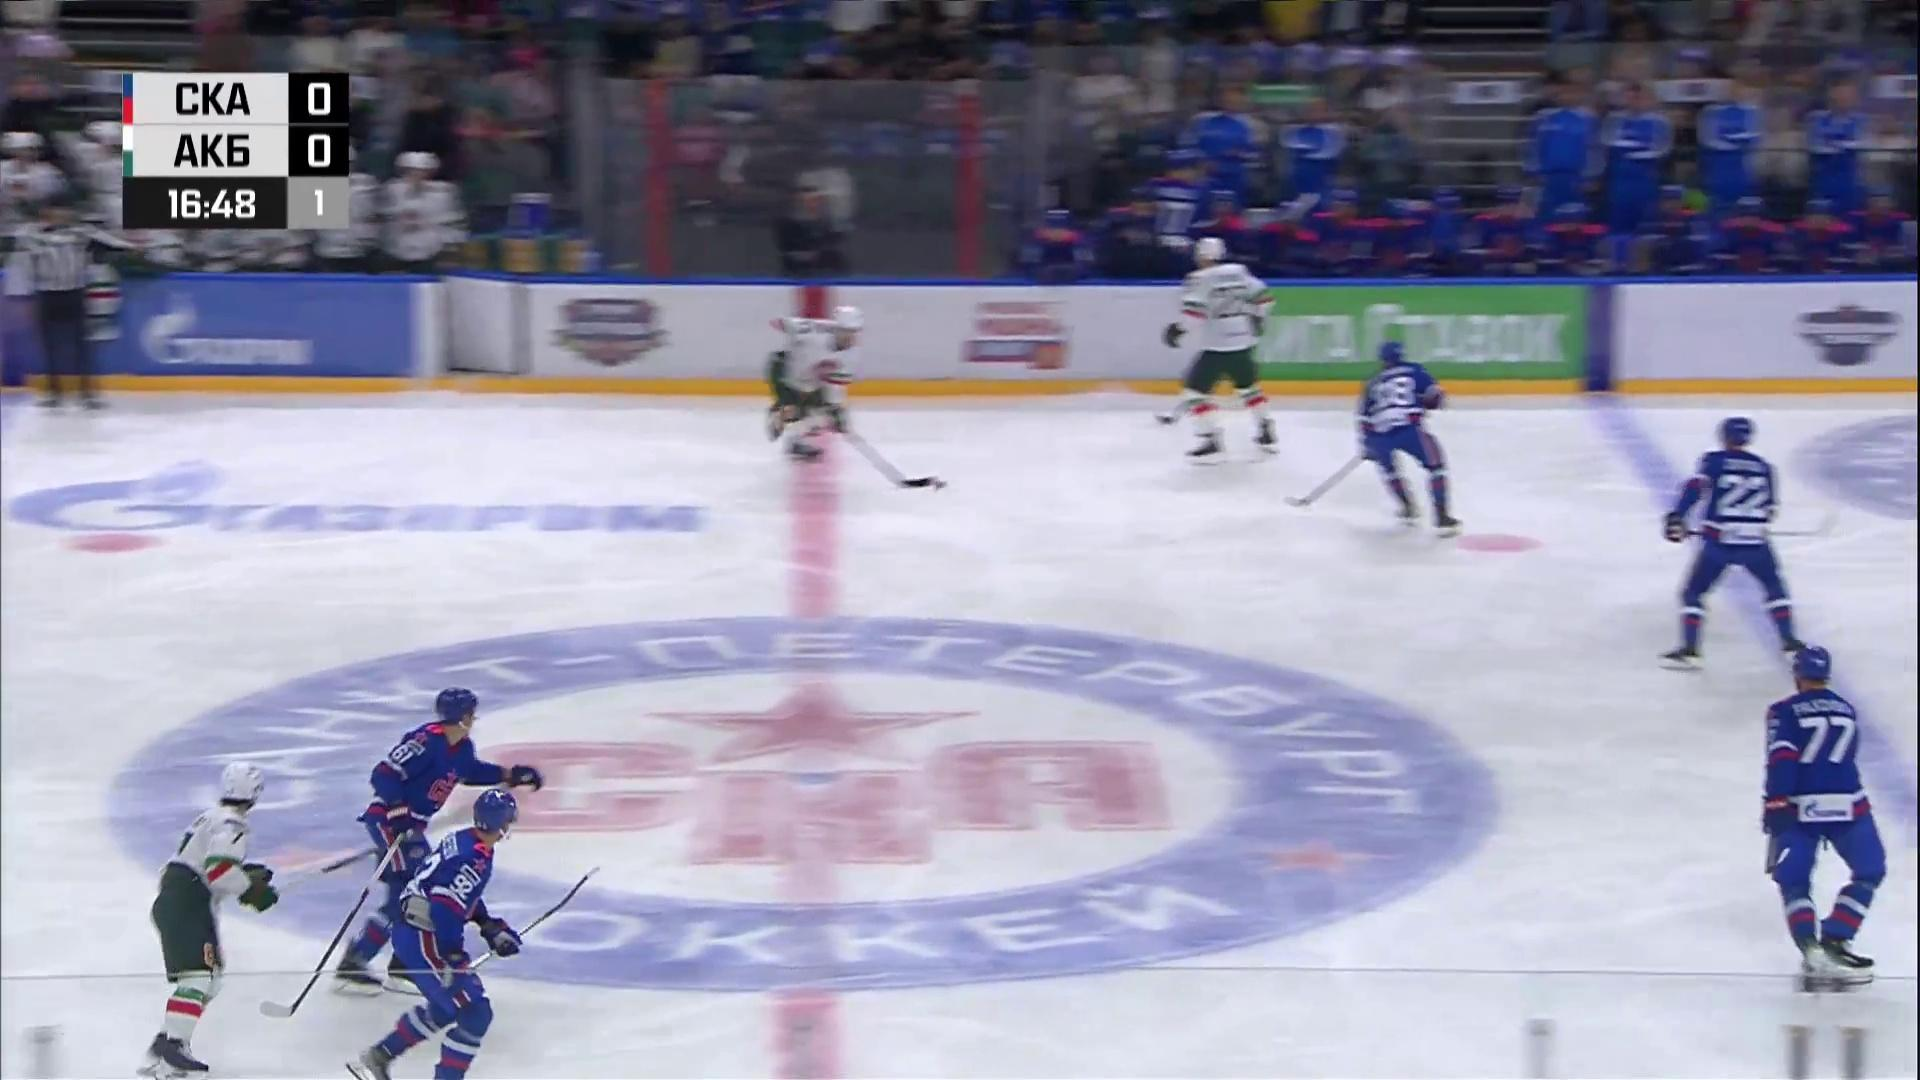ball: (934, 480, 948, 491)
